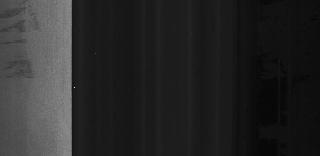water spot: (2, 0, 48, 84)
